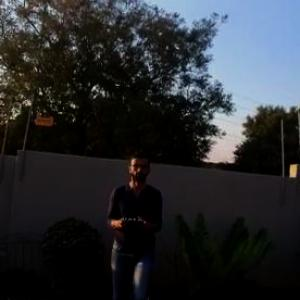follow: (102, 143, 166, 299)
